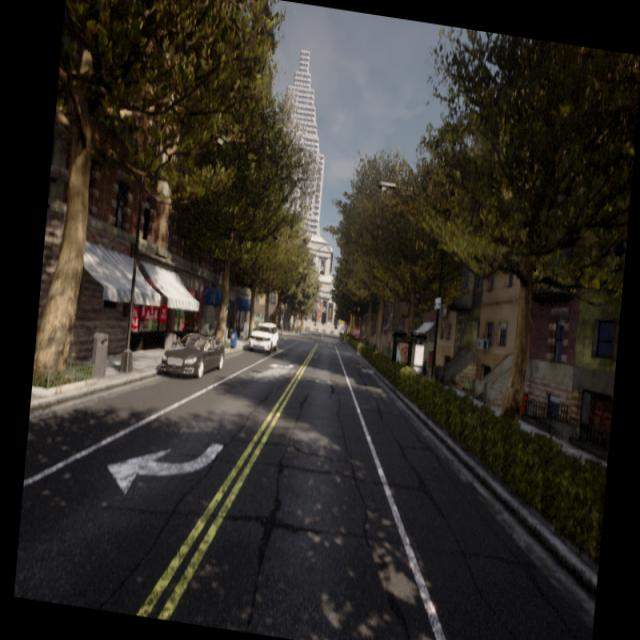stop sign: (350, 326, 361, 340)
